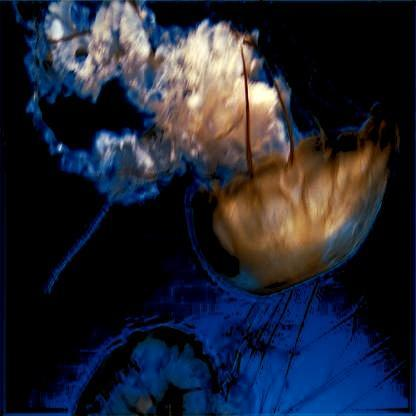Dressed: (40, 6, 402, 296), (78, 331, 263, 413)
